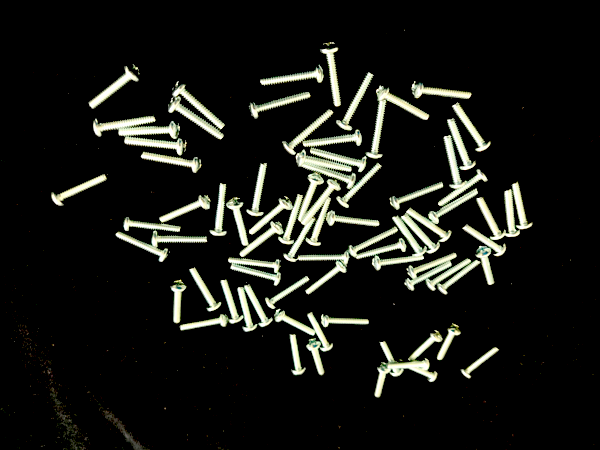longscrew: (170, 79, 228, 132), (87, 61, 144, 110), (280, 108, 336, 156), (167, 95, 225, 141), (336, 70, 375, 131), (375, 82, 432, 122), (450, 100, 493, 153), (435, 167, 490, 208), (336, 162, 383, 209), (49, 172, 110, 206), (246, 89, 312, 120), (300, 179, 342, 227), (248, 194, 294, 237), (427, 188, 480, 225), (115, 230, 172, 264), (444, 115, 478, 172), (317, 40, 344, 108), (187, 263, 223, 314), (239, 220, 285, 259), (158, 191, 212, 224), (388, 181, 445, 212), (406, 207, 453, 244), (400, 213, 441, 255), (298, 162, 357, 191), (346, 227, 399, 259), (264, 274, 311, 310), (460, 222, 508, 257), (282, 217, 318, 263), (310, 146, 369, 174), (364, 92, 388, 160), (436, 259, 481, 295), (391, 215, 429, 257), (295, 148, 354, 175), (402, 262, 455, 292), (92, 114, 158, 138), (410, 77, 474, 101), (425, 259, 473, 291), (304, 262, 349, 296), (259, 64, 325, 87), (277, 192, 305, 246), (442, 132, 468, 190), (141, 151, 203, 175), (476, 193, 507, 241), (406, 252, 459, 280), (305, 196, 334, 246), (245, 162, 270, 218), (460, 346, 501, 380), (244, 282, 274, 328), (117, 119, 182, 140), (273, 308, 317, 339), (297, 174, 325, 222), (407, 327, 444, 363), (123, 136, 189, 156), (230, 263, 283, 287), (510, 181, 535, 231), (306, 310, 335, 353), (354, 238, 408, 261), (121, 215, 183, 235), (219, 277, 244, 326), (302, 129, 363, 149), (208, 180, 229, 238), (226, 197, 250, 247), (150, 230, 210, 249), (228, 254, 282, 275), (436, 321, 463, 363), (236, 285, 259, 333), (378, 338, 405, 378), (179, 313, 229, 334), (397, 359, 439, 384), (298, 248, 352, 267), (327, 210, 382, 228), (371, 254, 425, 272), (503, 186, 521, 239), (475, 245, 497, 286), (169, 278, 188, 325), (288, 332, 307, 378), (305, 337, 326, 378), (320, 313, 371, 329), (385, 357, 430, 373), (373, 362, 391, 399)
